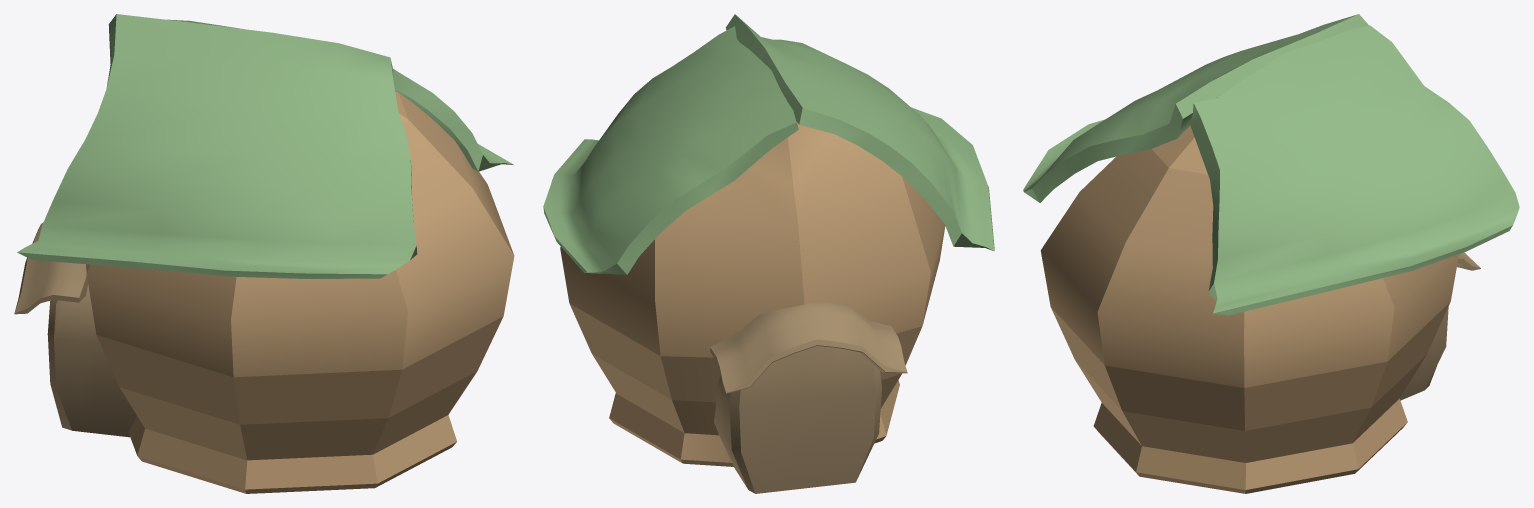
Rendered from treehouse.fbx.
The picture shows the model from 3 angles, left to right: view 1: azimuth 30°, elevation 25°; view 2: azimuth 150°, elevation 25°; view 3: azimuth 270°, elevation 25°; orthographic projection. The views are drawn at different scales.
Visible parts, largest first — view 1: pSphere1, pCube2, pCube4, pCube3, pCube1; view 2: pSphere1, pCube1, pCube2, pCube4, pCube3; view 3: pSphere1, pCube1, pCube2, pCube4.
Part boxes in pixels (x1,y1,x2,y2): pSphere1: (86, 91, 514, 493); pCube2: (17, 14, 417, 278); pCube4: (47, 284, 136, 437); pCube3: (14, 222, 88, 314); pCube1: (167, 19, 513, 171); pSphere1: (560, 122, 945, 466); pCube1: (543, 26, 798, 274); pCube2: (725, 14, 994, 251); pCube4: (714, 346, 881, 493); pCube3: (710, 302, 907, 393); pSphere1: (1040, 125, 1458, 493); pCube1: (1190, 25, 1519, 315); pCube2: (1023, 14, 1368, 202); pCube4: (1400, 307, 1448, 400).
Bounding box in the file's own units: 13.82 × 11.38 × 13.67.
